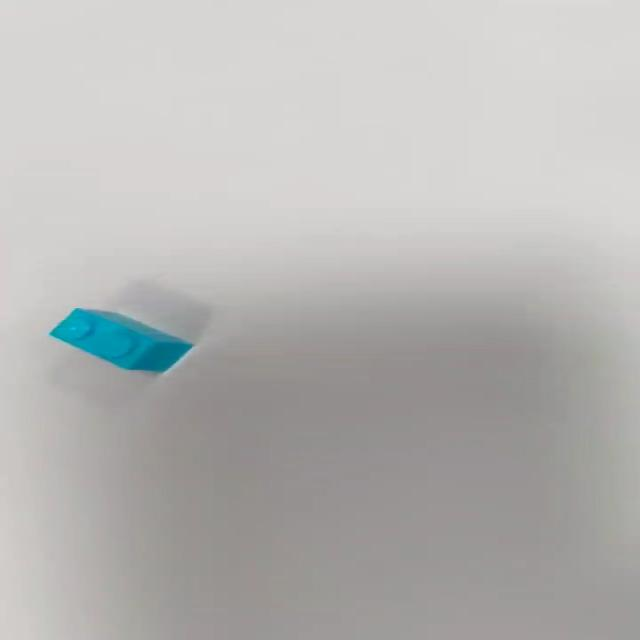C2x1x1: (47, 306, 195, 374)
